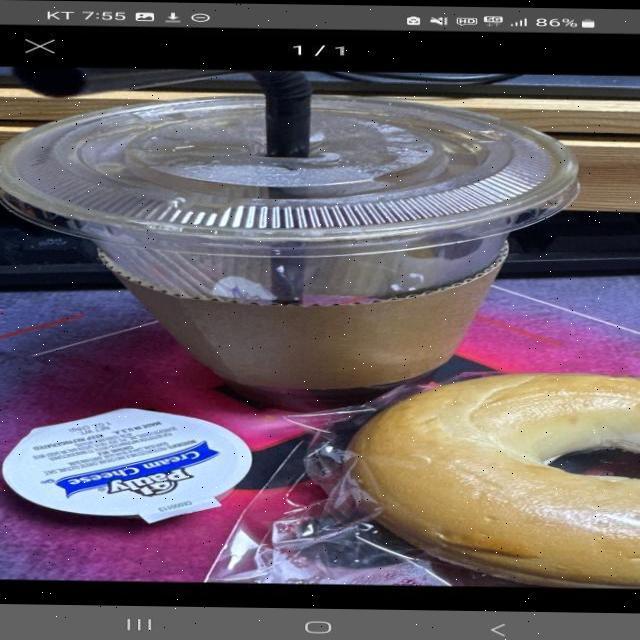cup: (0, 86, 607, 395)
